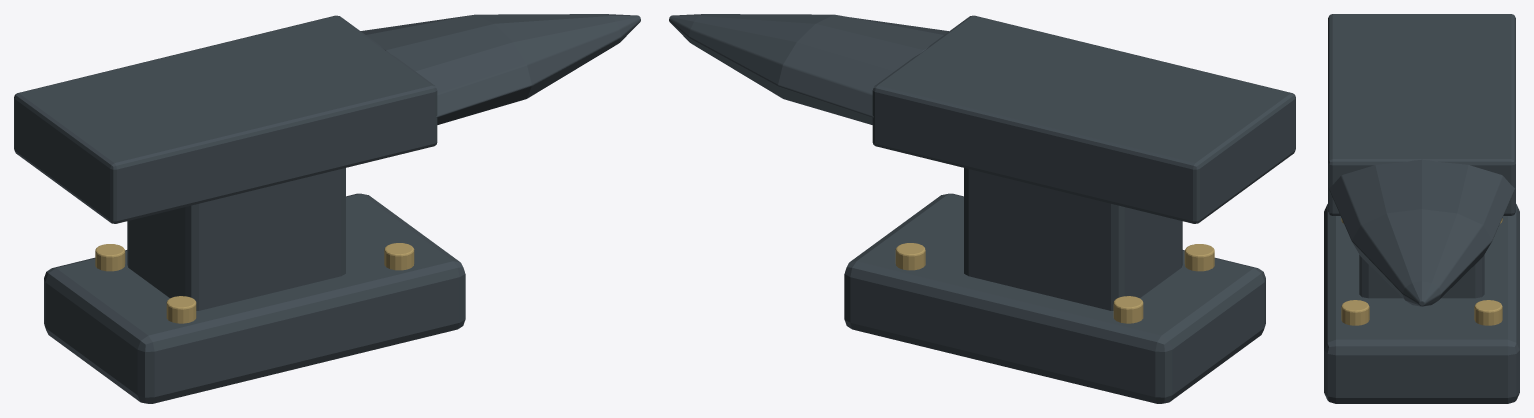
Rendered from bench_anvil.glb.
3 renders of one model, left to right at view 1: azimuth 30°, elevation 25°; view 2: azimuth 150°, elevation 25°; view 3: azimuth 270°, elevation 25°, orthographic. The views are drawn at different scales.
Visible parts, largest first — view 1: Anvil face, Anvil foot, Anvil waist, Tapered horn, Mounting pin, Mounting pin.002, Mounting pin.001; view 2: Anvil face, Anvil foot, Anvil waist, Tapered horn, Mounting pin.001, Mounting pin.003, Mounting pin; view 3: Anvil face, Anvil foot, Tapered horn, Anvil waist, Mounting pin.002, Mounting pin.003.
Boxes of the visible parts, left/top/right/bottom form: Anvil face: left=14, top=15, right=437, bottom=223; Anvil foot: left=44, top=193, right=465, bottom=403; Anvil waist: left=127, top=168, right=345, bottom=310; Tapered horn: left=360, top=14, right=640, bottom=124; Mounting pin: left=166, top=296, right=196, bottom=323; Mounting pin.002: left=384, top=243, right=414, bottom=270; Mounting pin.001: left=95, top=244, right=125, bottom=271; Anvil face: left=872, top=15, right=1295, bottom=223; Anvil foot: left=844, top=193, right=1265, bottom=403; Anvil waist: left=964, top=168, right=1182, bottom=310; Tapered horn: left=669, top=14, right=948, bottom=124; Mounting pin.001: left=1113, top=296, right=1143, bottom=323; Mounting pin.003: left=895, top=243, right=925, bottom=270; Mounting pin: left=1184, top=244, right=1214, bottom=271; Anvil face: left=1328, top=14, right=1515, bottom=215; Anvil foot: left=1324, top=204, right=1519, bottom=403; Tapered horn: left=1328, top=160, right=1515, bottom=306; Anvil waist: left=1359, top=255, right=1484, bottom=298; Mounting pin.002: left=1341, top=300, right=1369, bottom=325; Mounting pin.003: left=1474, top=300, right=1502, bottom=325.
Size of the model in its own units: 0.795 by 0.33 by 0.25.
